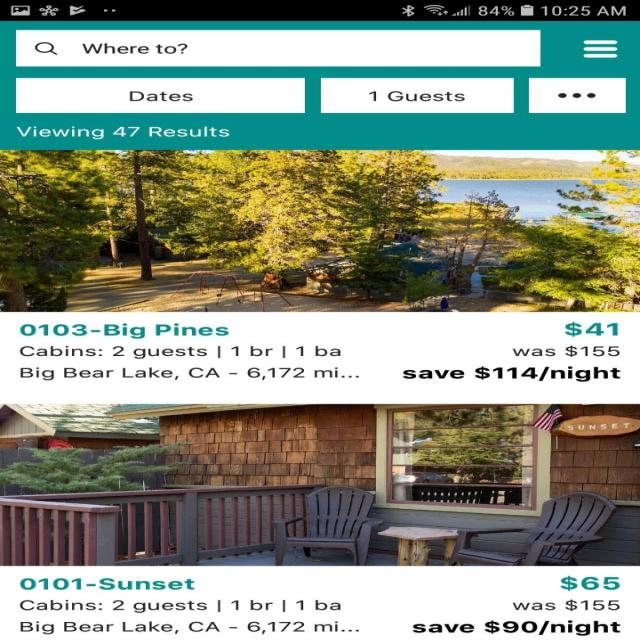EditText: (16, 30, 540, 67)
Icon: (582, 40, 617, 58), (34, 42, 58, 55)
Image: (0, 404, 639, 566), (0, 150, 639, 312)
Text: (19, 599, 358, 634), (19, 346, 358, 380), (402, 365, 620, 382), (412, 619, 620, 636), (20, 323, 228, 338), (17, 126, 230, 139), (19, 577, 194, 589), (512, 599, 620, 611), (512, 345, 620, 357), (81, 43, 188, 54), (559, 575, 620, 591), (564, 322, 618, 337)
TextButton: (16, 78, 305, 113), (320, 78, 513, 113), (528, 78, 625, 113)
